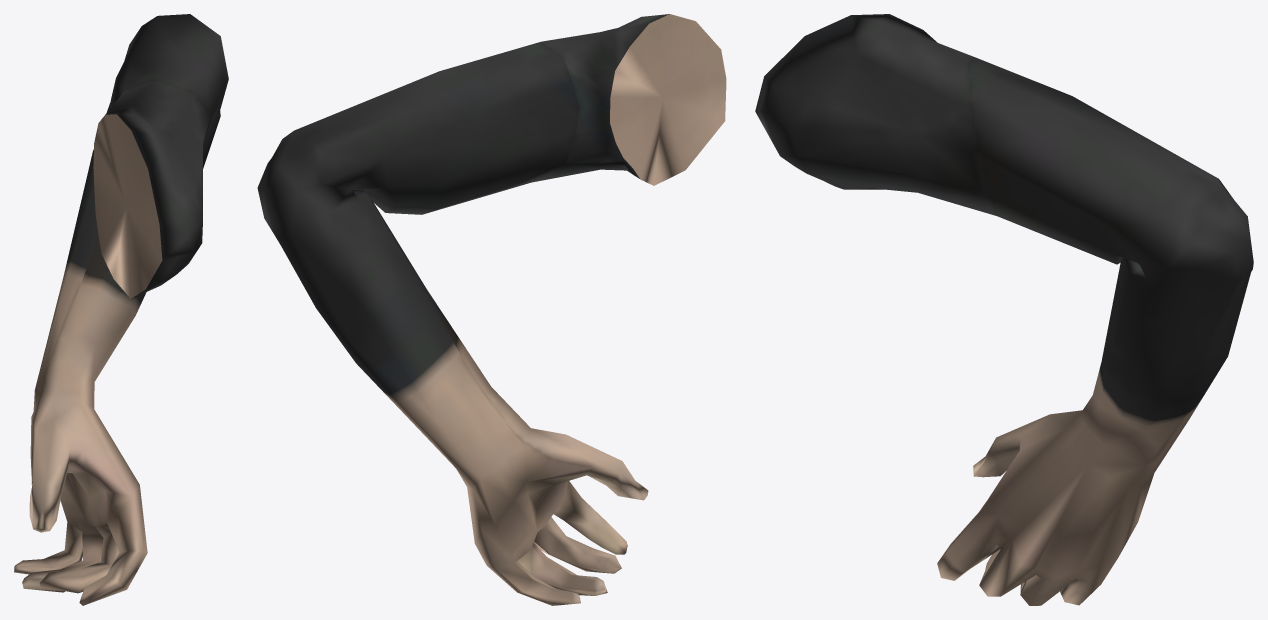
The model's file is dest_nt_nuked_female_03_arm_left_LOD1.obj.
The picture shows the model from 3 angles, left to right: view 1: azimuth 30°, elevation 25°; view 2: azimuth 150°, elevation 25°; view 3: azimuth 270°, elevation 25°; orthographic projection. The views are drawn at different scales.
Visible parts, largest first — view 1: mtl_nt_2020_manne_fem01_head2; view 2: mtl_nt_2020_manne_fem01_head2; view 3: mtl_nt_2020_manne_fem01_head2.
Part boxes in pixels (x1=…): mtl_nt_2020_manne_fem01_head2: x1=14, y1=14, x2=228, y2=605; mtl_nt_2020_manne_fem01_head2: x1=257, y1=14, x2=726, y2=605; mtl_nt_2020_manne_fem01_head2: x1=755, y1=14, x2=1253, y2=605.
Bounding box in the file's own units: 22.03 × 39.48 × 31.03.
